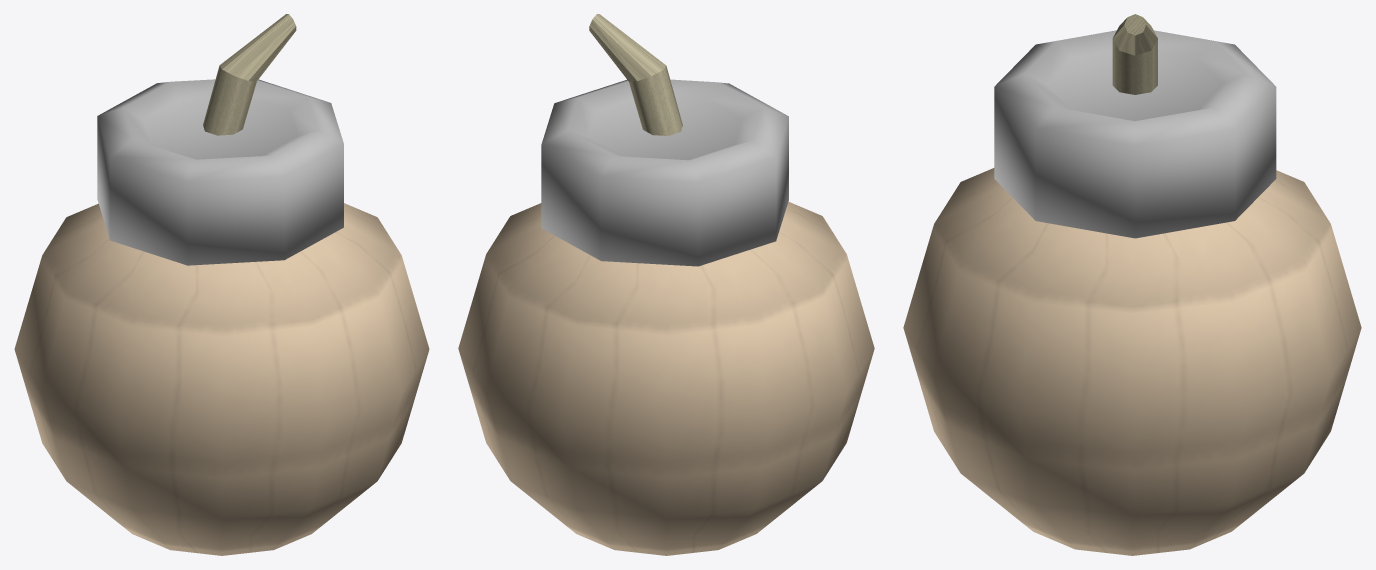
File: Bomb.FBX
3 views of the same model, side by side, from view 1: azimuth 30°, elevation 25°; view 2: azimuth 150°, elevation 25°; view 3: azimuth 270°, elevation 25° (orthographic). The views are drawn at different scales.
Visible parts, largest first — view 1: Bomb; view 2: Bomb; view 3: Bomb.
Part boxes in pixels (left/top/right/bottom): Bomb: left=14, top=14, right=429, bottom=555; Bomb: left=458, top=14, right=874, bottom=555; Bomb: left=903, top=14, right=1361, bottom=555.
Size of the model in its own units: 27.69 by 27.69 by 37.22.
Materials: 1 (1 with a texture image).
